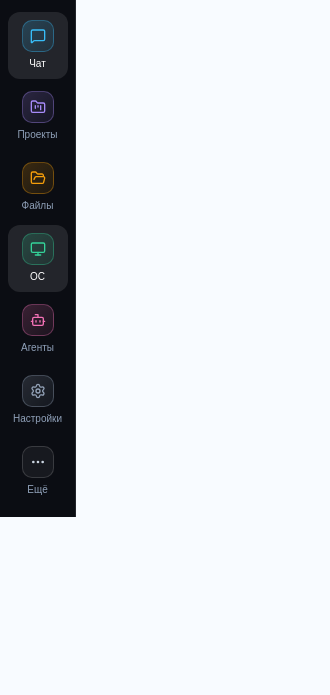
Test case: навигация школы › меню закрывается по Escape и не остаётся висеть поверх рабочей области
Click the button "Ещё" at (38, 472), box [8, 438, 68, 505]
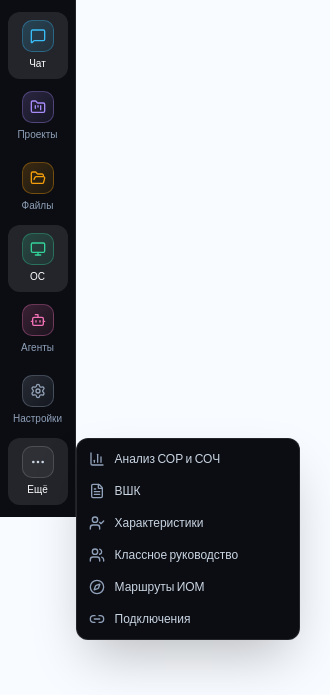
Check: the menu is shown, box [76, 438, 300, 640]
Press Escape
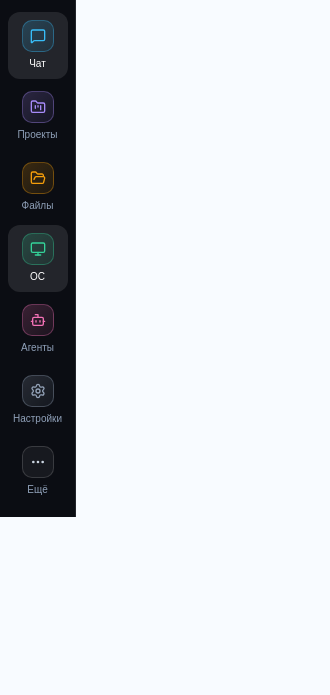
Check: the menu is gone
